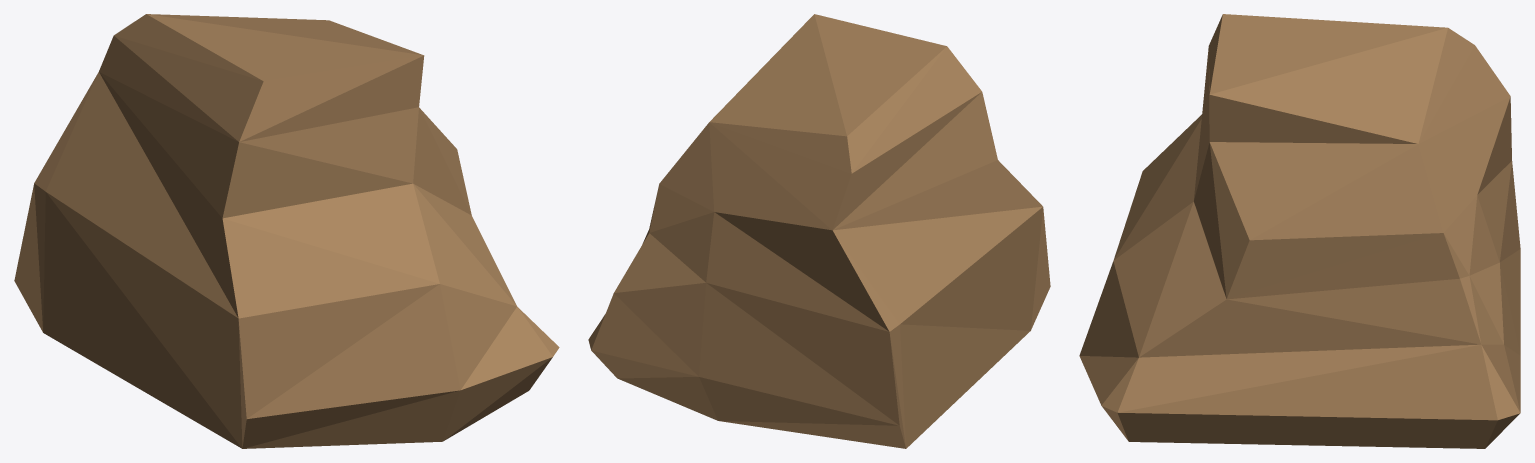
File: rock_desert_1.glb
The picture shows the model from 3 angles, left to right: view 1: azimuth 30°, elevation 25°; view 2: azimuth 150°, elevation 25°; view 3: azimuth 270°, elevation 25°; orthographic projection. The views are drawn at different scales.
Parts seen in each view (by area): view 1: lod0; view 2: lod0; view 3: lod0.
Part boxes in pixels (x1,y1,x2,y2): lod0: (14,14,559,448); lod0: (588,14,1050,448); lod0: (1079,14,1520,448).
Size of what is drawn, in the model's own units: 1.56 by 1.45 by 1.69.
